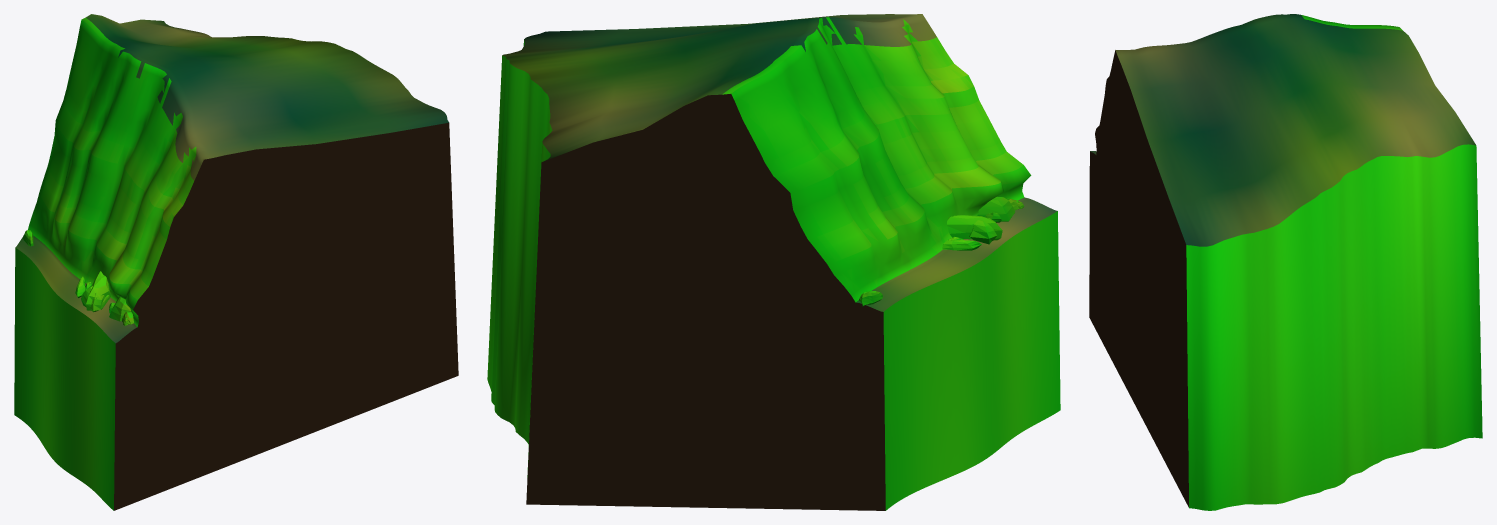
Rendered from SM_ForestRisingCliffs_17.fbx.
The picture shows the model from 3 angles, left to right: view 1: azimuth 30°, elevation 25°; view 2: azimuth 150°, elevation 25°; view 3: azimuth 270°, elevation 25°; orthographic projection. The views are drawn at different scales.
Visible parts, largest first — view 1: SM_ForestRisingCliffs_17; view 2: SM_ForestRisingCliffs_17; view 3: SM_ForestRisingCliffs_17.
Part boxes in pixels (bbox=[...]): SM_ForestRisingCliffs_17: bbox=[14, 14, 458, 510]; SM_ForestRisingCliffs_17: bbox=[487, 14, 1060, 510]; SM_ForestRisingCliffs_17: bbox=[1089, 14, 1482, 510].
Bounding box in the file's own units: 61.73 × 52.31 × 52.7.
